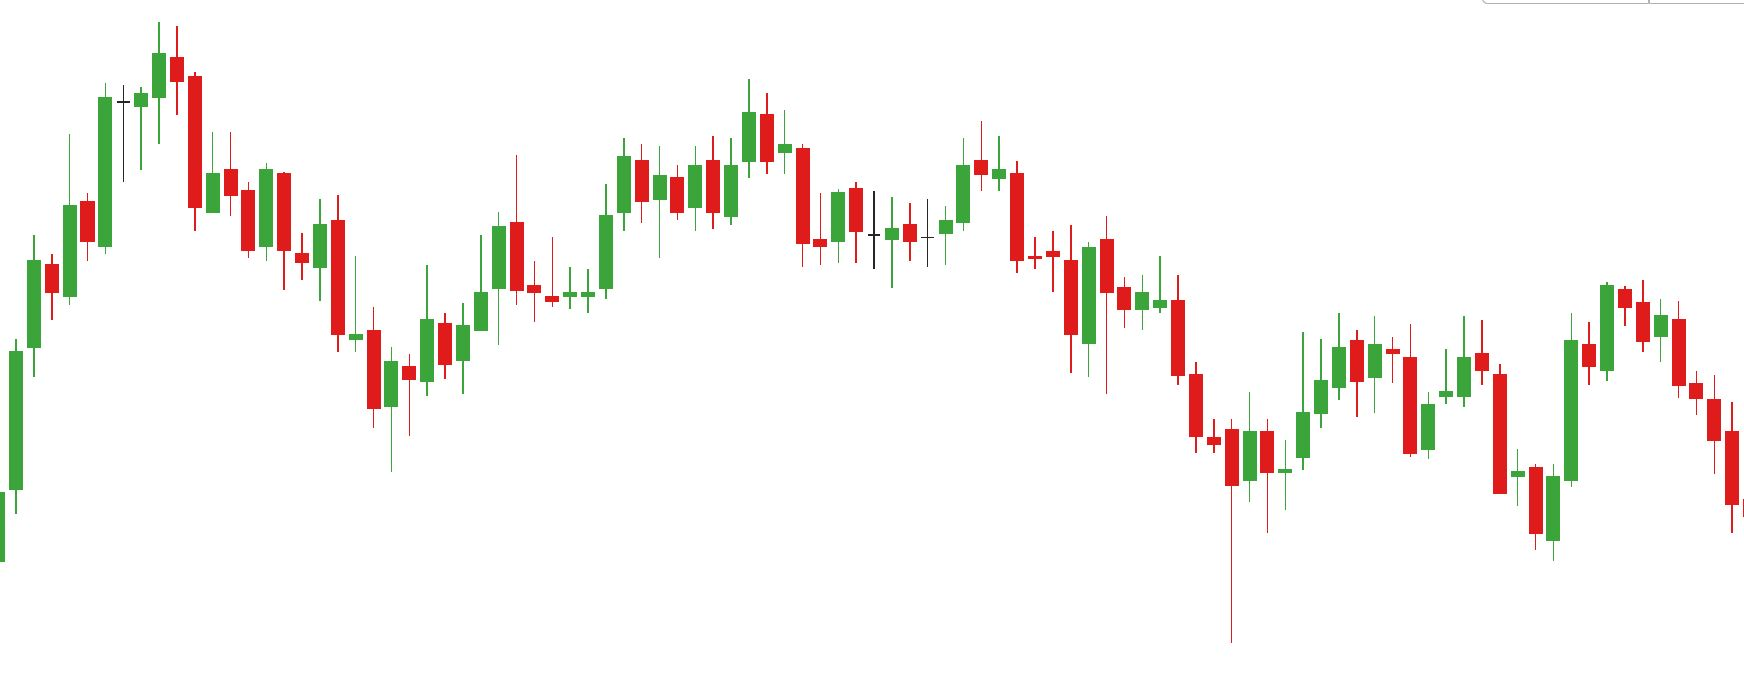sell: (614, 66, 777, 197)
